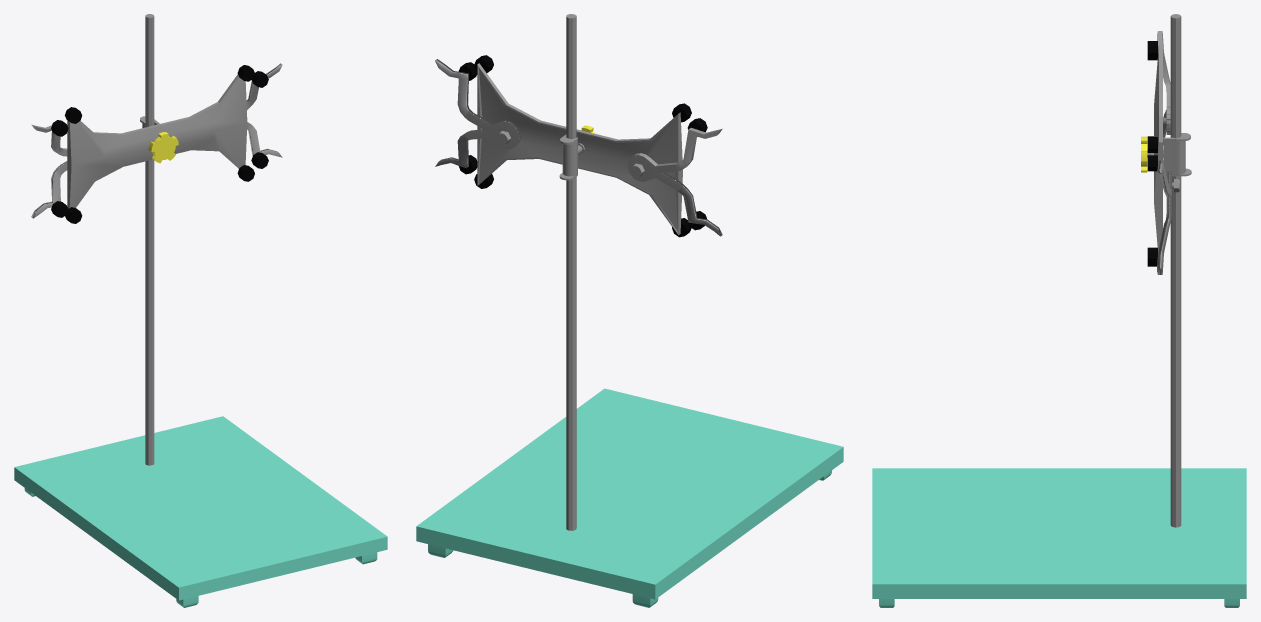
Rendered from statif dan klem.fbx.
3 renders of one model, left to right at view 1: azimuth 30°, elevation 25°; view 2: azimuth 150°, elevation 25°; view 3: azimuth 270°, elevation 25°, orthographic. The views are drawn at different scales.
Parts seen in each view (by area): view 1: Plane, Gear.001, Plane.001, Plane.011, Plane.012, Plane.005, Plane.010; view 2: Plane, Gear.001, Plane.001, Plane.010, Plane.005, Plane.011, Plane.012, Cylinder; view 3: Plane, Plane.001, Gear.001, Cylinder, Plane.012, Plane.010, Plane.005.
Part boxes in pixels (x1=…): Plane: x1=14, y1=416, x2=387, y2=607; Gear.001: x1=64, y1=65, x2=254, y2=223; Plane.001: x1=145, y1=14, x2=154, y2=465; Plane.011: x1=31, y1=161, x2=68, y2=218; Plane.012: x1=247, y1=122, x2=282, y2=168; Plane.005: x1=31, y1=120, x2=68, y2=156; Plane.010: x1=246, y1=63, x2=282, y2=109; Plane: x1=416, y1=388, x2=843, y2=607; Gear.001: x1=474, y1=55, x2=691, y2=237; Plane.001: x1=566, y1=14, x2=576, y2=530; Plane.010: x1=435, y1=59, x2=520, y2=148; Plane.005: x1=627, y1=118, x2=722, y2=181; Plane.011: x1=627, y1=155, x2=722, y2=236; Plane.012: x1=435, y1=122, x2=520, y2=174; Cylinder: x1=559, y1=134, x2=577, y2=180; Plane: x1=872, y1=468, x2=1246, y2=607; Plane.001: x1=1170, y1=14, x2=1181, y2=527; Gear.001: x1=1141, y1=41, x2=1162, y2=266; Cylinder: x1=1163, y1=133, x2=1191, y2=176; Plane.012: x1=1147, y1=198, x2=1171, y2=274; Plane.010: x1=1147, y1=155, x2=1171, y2=197; Plane.005: x1=1147, y1=31, x2=1170, y2=132.
Size of the model in its own units: 114 by 208 by 131.
